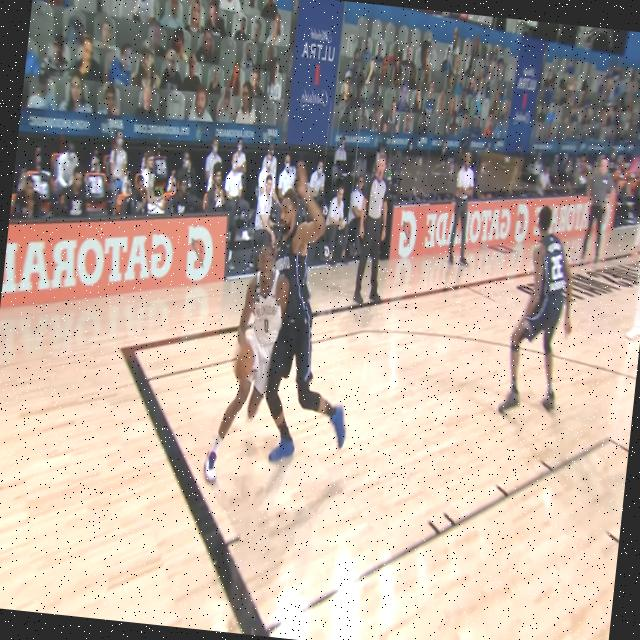Foul: (203, 169, 358, 498)
